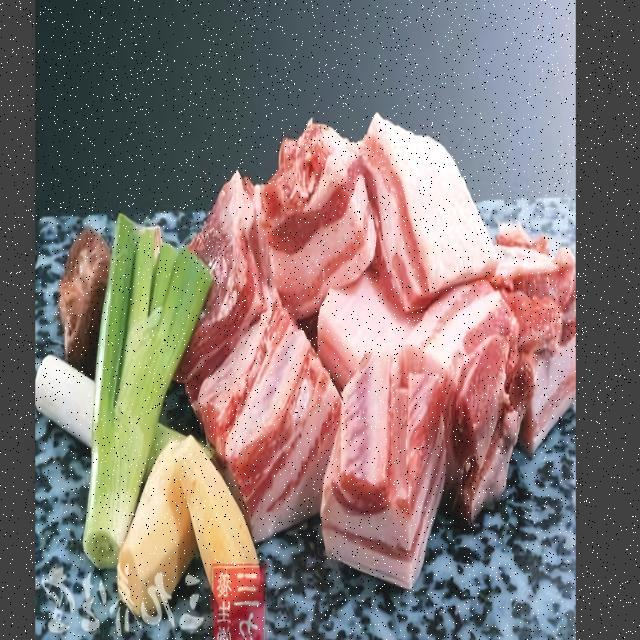pork: (321, 351, 445, 589), (404, 279, 519, 523), (362, 113, 493, 309), (169, 169, 275, 402), (226, 318, 341, 531), (261, 122, 376, 317), (496, 240, 576, 450), (195, 298, 284, 456)
